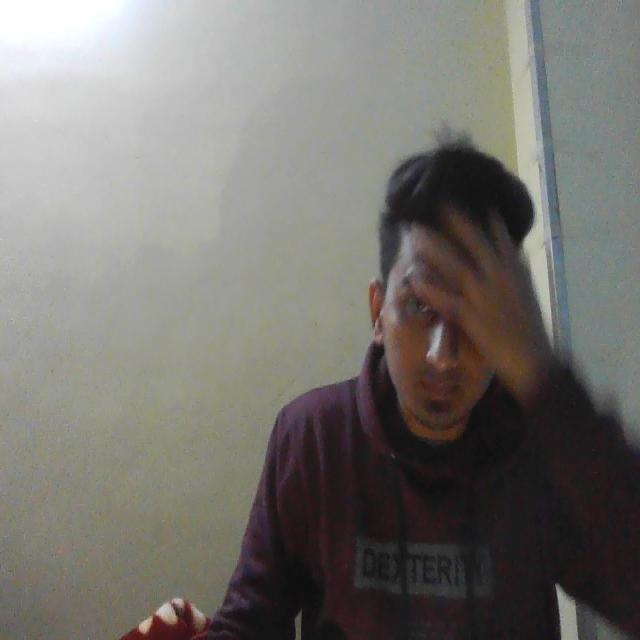real: (366, 153, 530, 463)
